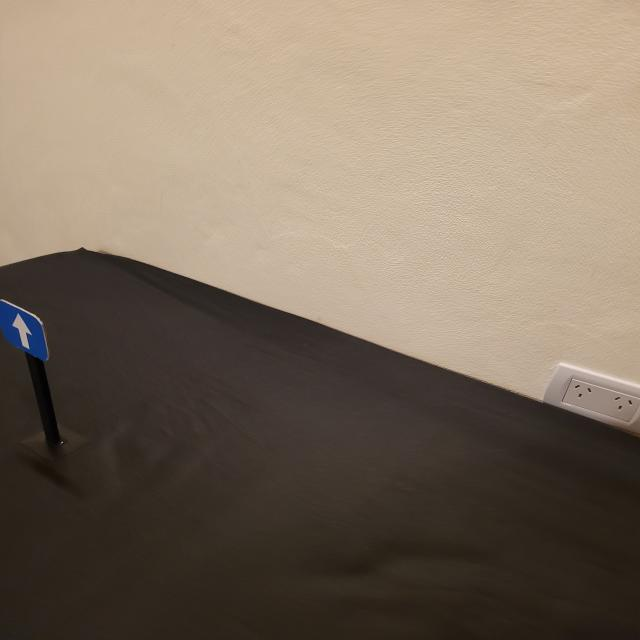one_way: (0, 299, 51, 363)
